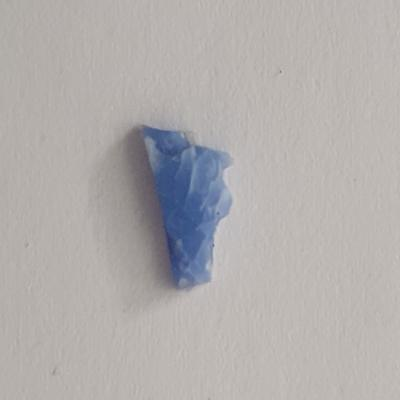plastic: (137, 116, 243, 293)
